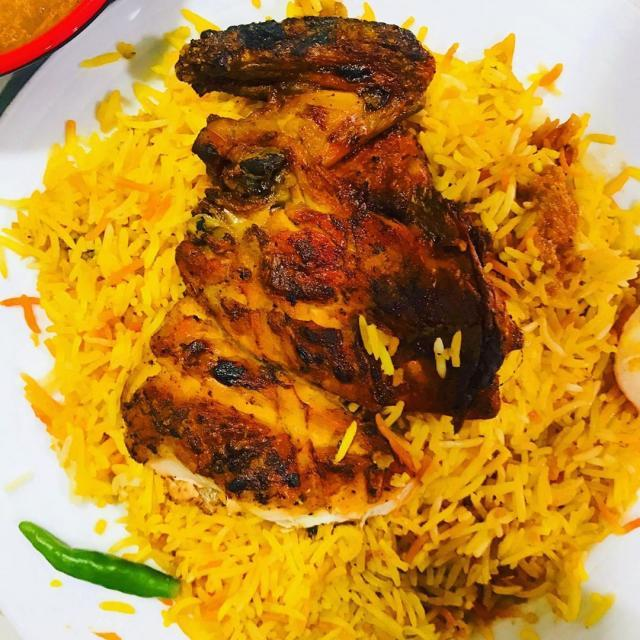biryani: (30, 27, 608, 633)
